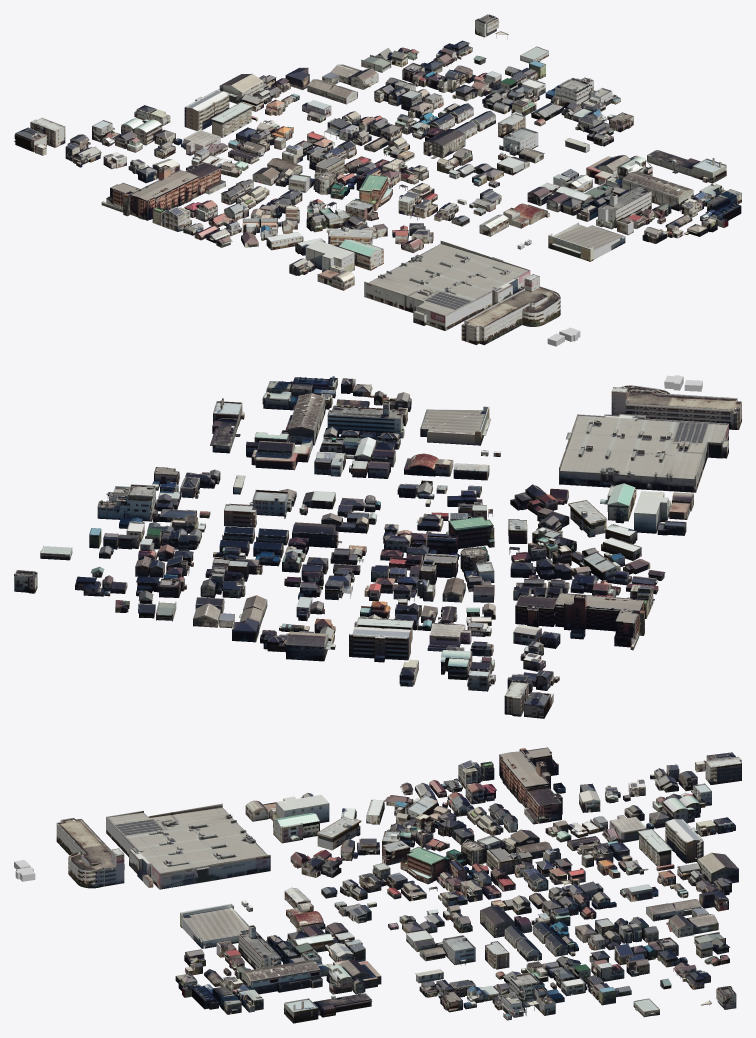
Rendered from lod3-station-2-2-packed.glb.
The picture shows the model from 3 angles, top to bottom: view 1: azimuth 30°, elevation 25°; view 2: azimuth 150°, elevation 25°; view 3: azimuth 270°, elevation 25°; orthographic projection. The views are drawn at different scales.
Bounding box in the file's own units: 380 × 22.14 × 453.
Materials: 37 (36 with a texture image).
